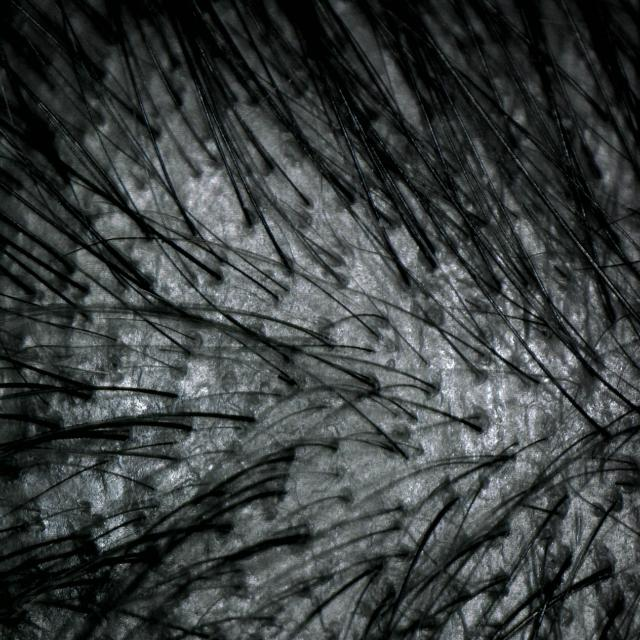roots: (584, 162, 606, 187), (298, 527, 314, 548), (559, 551, 575, 570), (326, 440, 342, 457), (607, 493, 622, 511), (597, 562, 612, 580), (407, 409, 422, 427), (426, 379, 442, 395), (368, 327, 384, 343), (599, 427, 615, 443), (506, 449, 522, 465), (189, 163, 204, 180), (147, 124, 162, 141), (601, 568, 616, 585), (212, 269, 226, 287), (401, 272, 415, 290), (168, 387, 182, 405), (449, 490, 462, 509), (604, 307, 620, 322), (333, 272, 347, 289), (529, 374, 543, 391), (145, 480, 159, 497), (244, 412, 258, 429), (77, 388, 91, 405), (242, 215, 257, 230), (23, 286, 38, 301), (425, 257, 439, 273), (344, 190, 358, 206), (398, 448, 412, 464), (538, 431, 552, 447), (168, 55, 182, 71), (497, 527, 511, 543), (559, 489, 573, 505), (383, 586, 397, 602), (490, 574, 503, 591), (366, 376, 378, 394), (470, 425, 485, 439), (269, 290, 284, 304), (301, 194, 314, 210), (584, 344, 600, 357), (264, 158, 277, 174), (180, 420, 193, 436), (399, 546, 412, 562), (474, 364, 486, 381), (182, 344, 195, 359), (279, 282, 291, 298), (366, 344, 379, 358), (338, 492, 350, 507), (76, 284, 88, 298), (509, 438, 521, 452), (394, 502, 404, 516), (494, 279, 504, 293), (470, 412, 481, 424), (428, 244, 439, 256), (209, 153, 220, 165), (511, 210, 520, 222), (386, 218, 395, 230)
